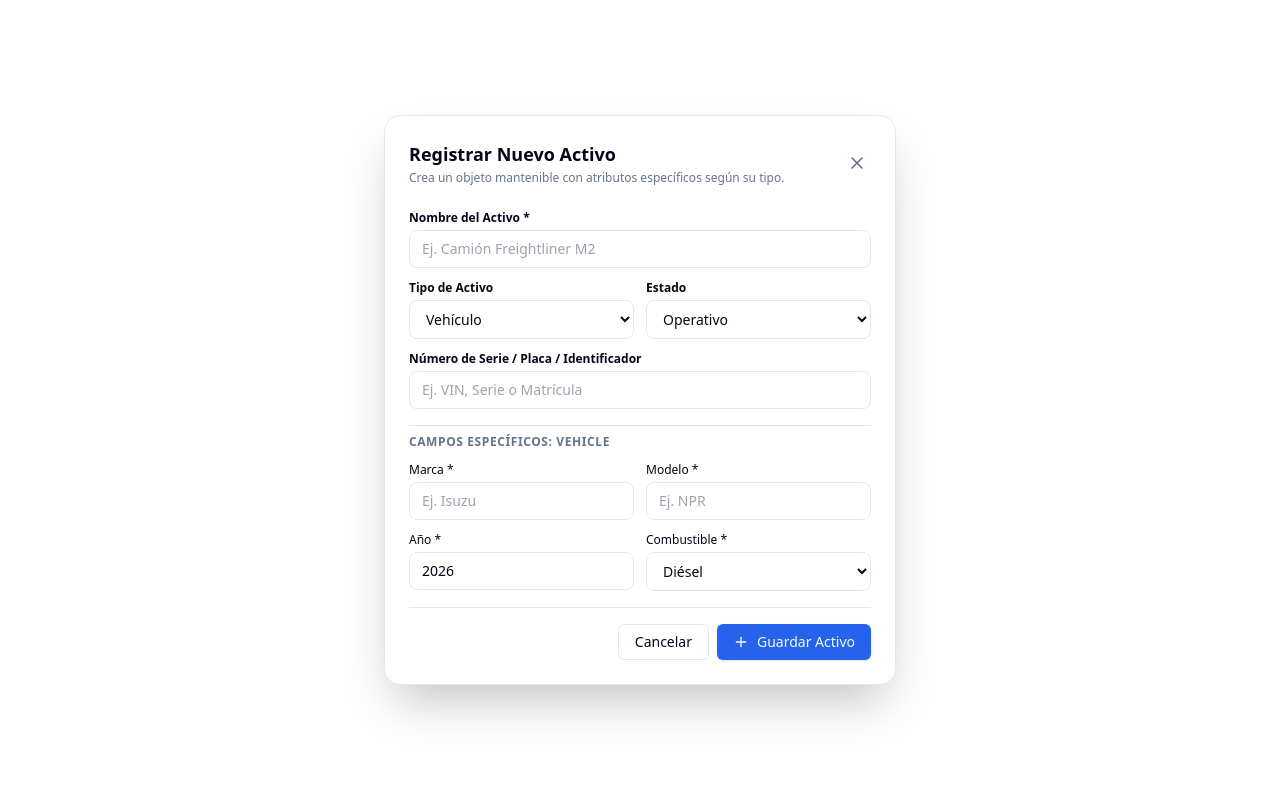
Test: CreateAssetModal Polymorphic Form (TC-FE-ASSETS-03, TC-FE-ASSETS-04) › validates required vehicle fields and displays validation error
The image size is (1280, 800).
# Enter asset name but leave brand/model empty
Type "Camión Reparto 01" into the field with test id "input-asset-name".
click(640, 249); type("Camión Reparto 01")  # box [409,230,871,268]
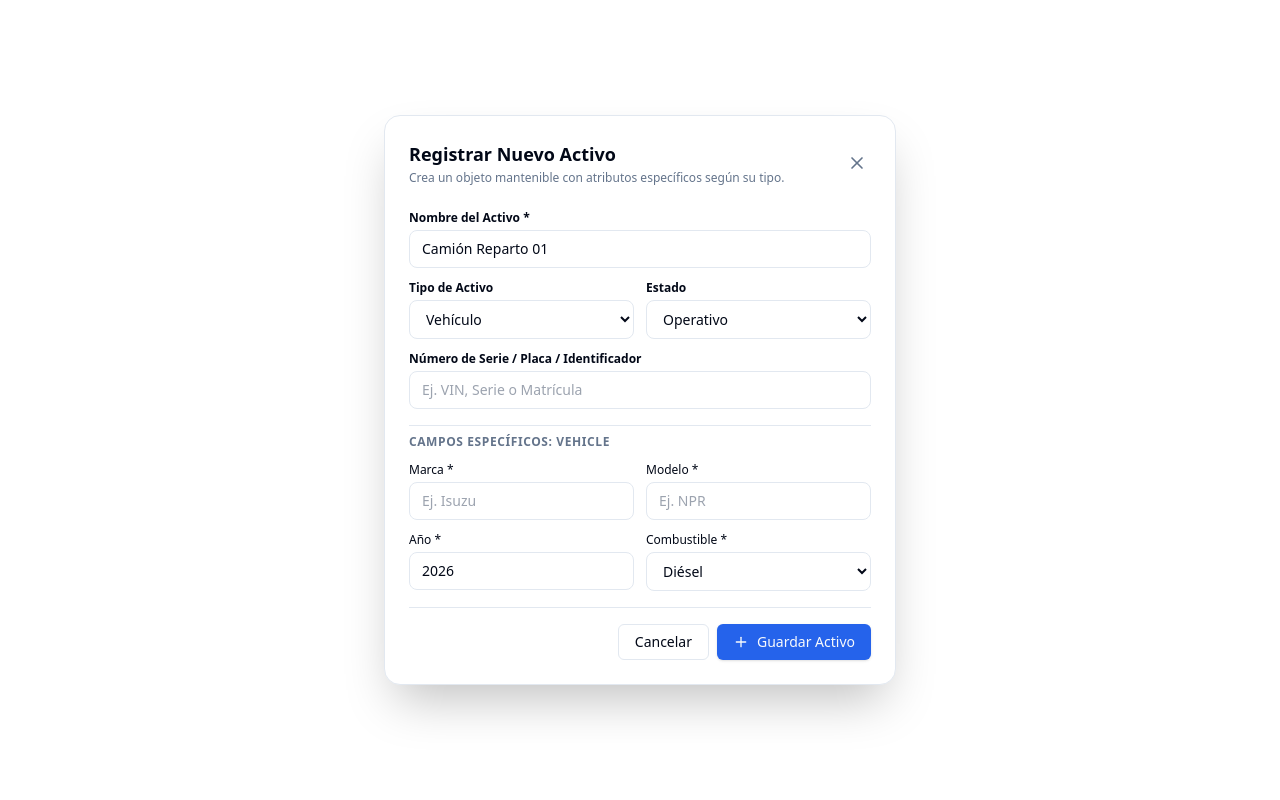
Click the button with test id "button-submit-asset".
click(794, 642)  # box [717,624,871,660]
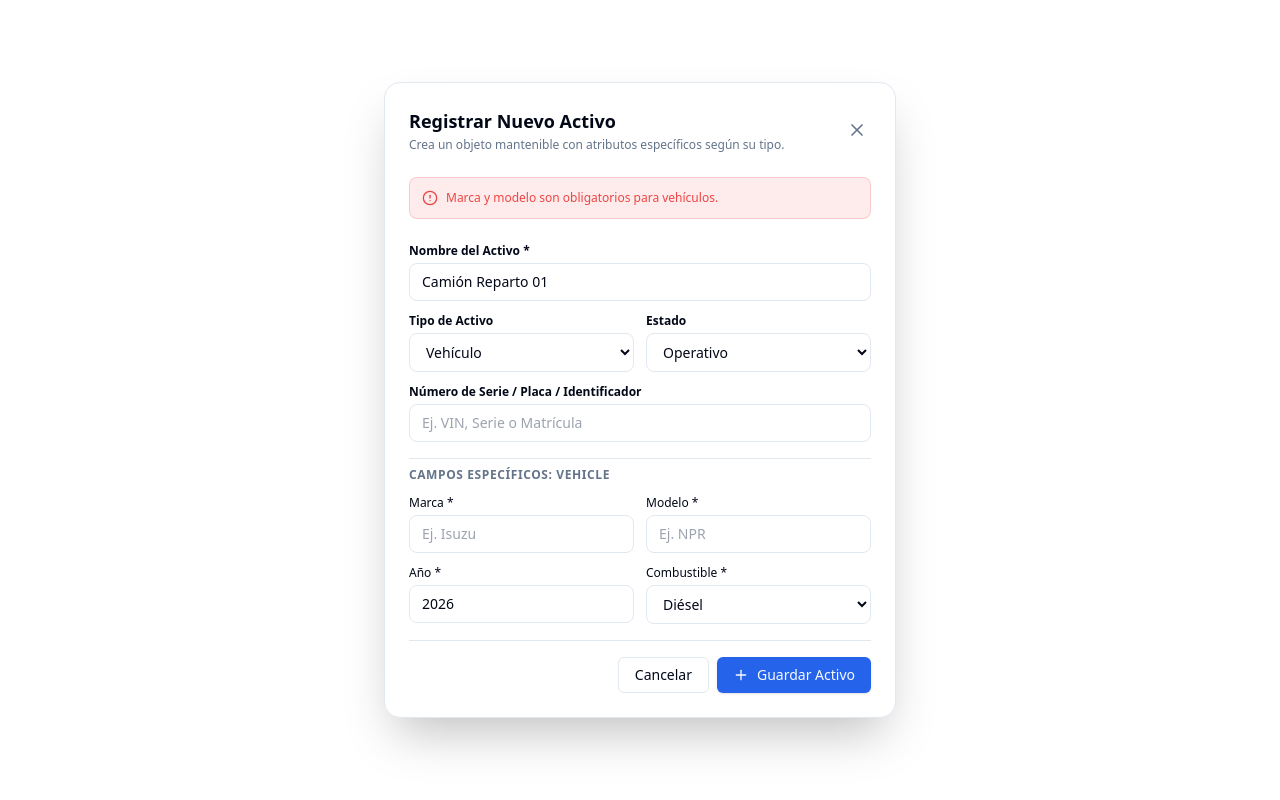
Now the text "Marca y modelo son obligatorios para vehículos." is shown, box [446,190,718,206]
